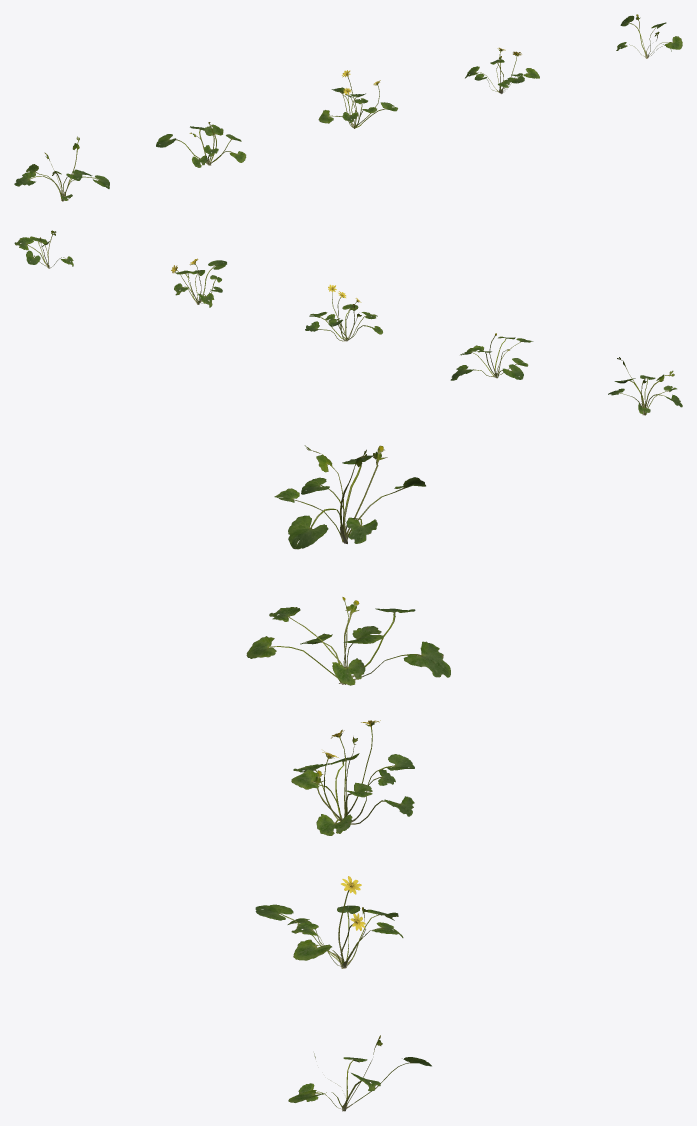
The model's file is celandine_01.glb.
3 views of the same model, one above another, from view 1: azimuth 30°, elevation 25°; view 2: azimuth 150°, elevation 25°; view 3: azimuth 270°, elevation 25° (orthographic). The views are drawn at different scales.
Parts seen in each view (by area): view 1: celandine_01_b_mesh, celandine_01_c_mesh, celandine_01_a_mesh, celandine_01_d_mesh, celandine_01_e_mesh; view 2: celandine_01_c_mesh, celandine_01_b_mesh, celandine_01_d_mesh, celandine_01_a_mesh, celandine_01_e_mesh; view 3: celandine_01_b_mesh, celandine_01_a_mesh, celandine_01_c_mesh, celandine_01_d_mesh, celandine_01_e_mesh.
Part boxes in pixels (left/top/right/bottom): celandine_01_b_mesh: left=156, top=122, right=246, bottom=167; celandine_01_c_mesh: left=318, top=70, right=397, bottom=128; celandine_01_a_mesh: left=14, top=136, right=109, bottom=201; celandine_01_d_mesh: left=465, top=47, right=539, bottom=93; celandine_01_e_mesh: left=616, top=14, right=682, bottom=58; celandine_01_c_mesh: left=305, top=284, right=382, bottom=341; celandine_01_b_mesh: left=450, top=333, right=533, bottom=380; celandine_01_d_mesh: left=171, top=258, right=226, bottom=307; celandine_01_a_mesh: left=608, top=357, right=682, bottom=415; celandine_01_e_mesh: left=14, top=230, right=73, bottom=268; celandine_01_b_mesh: left=246, top=597, right=450, bottom=685; celandine_01_a_mesh: left=274, top=445, right=425, bottom=549; celandine_01_c_mesh: left=291, top=720, right=414, bottom=835; celandine_01_d_mesh: left=255, top=876, right=403, bottom=968; celandine_01_e_mesh: left=288, top=1035, right=431, bottom=1111.
Bounding box in the file's own units: 2.24 × 0.1858 × 0.3067.
Materials: 1 (1 with a texture image).
